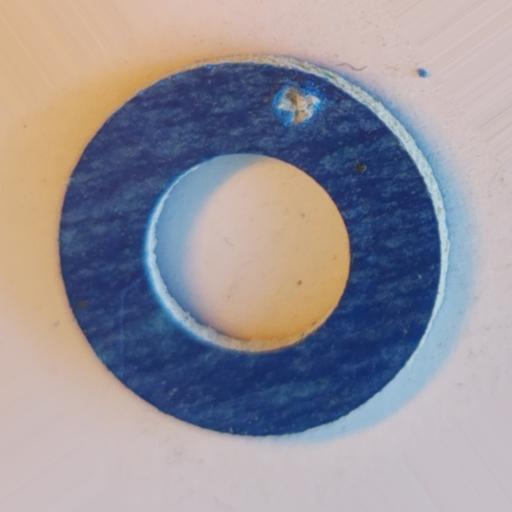defect: (274, 85, 322, 127)
